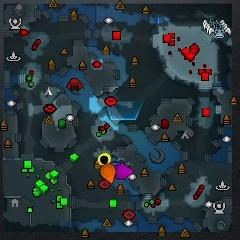p3: (115, 163, 135, 180)
p4Clone: (98, 153, 111, 166)
p5: (100, 163, 116, 184)
